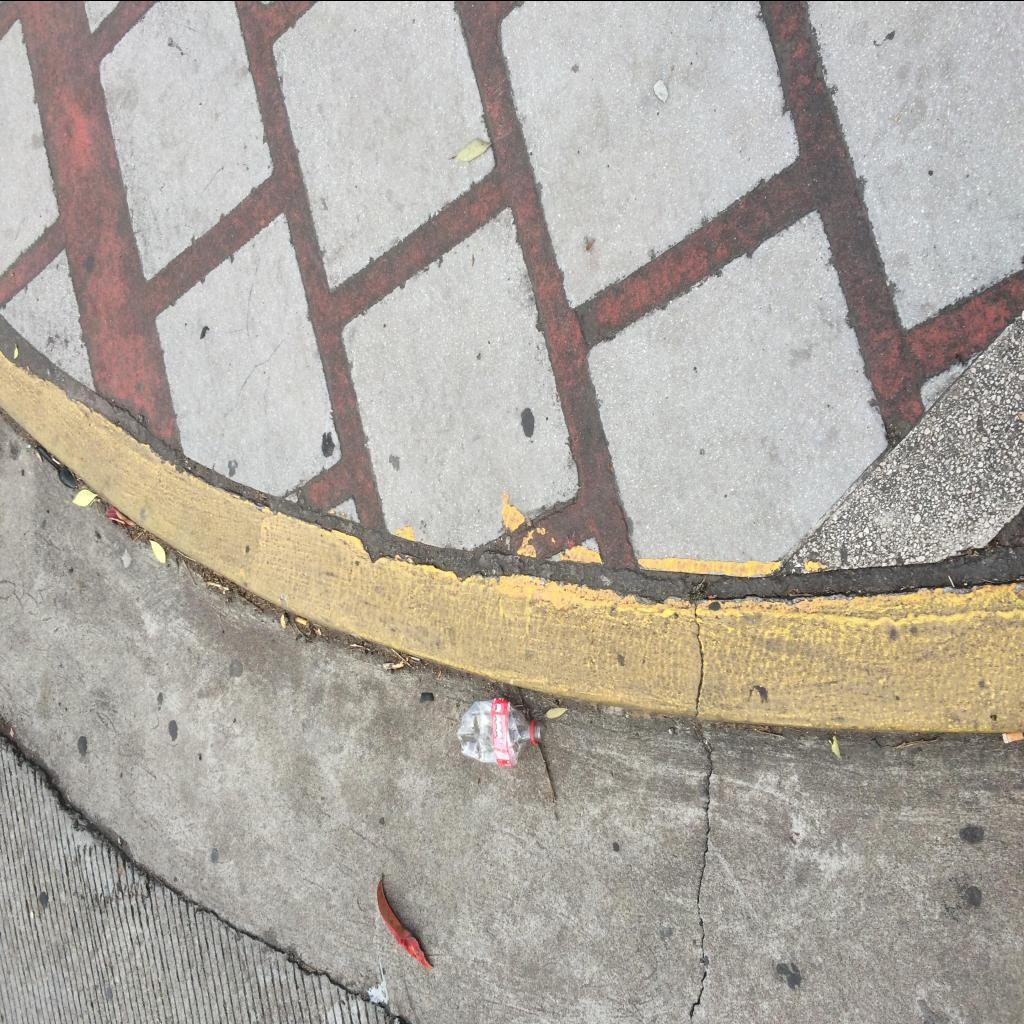Cigarette: (1002, 730, 1022, 742), (296, 620, 308, 626)
Clear plastic bottle: (457, 697, 545, 765)
